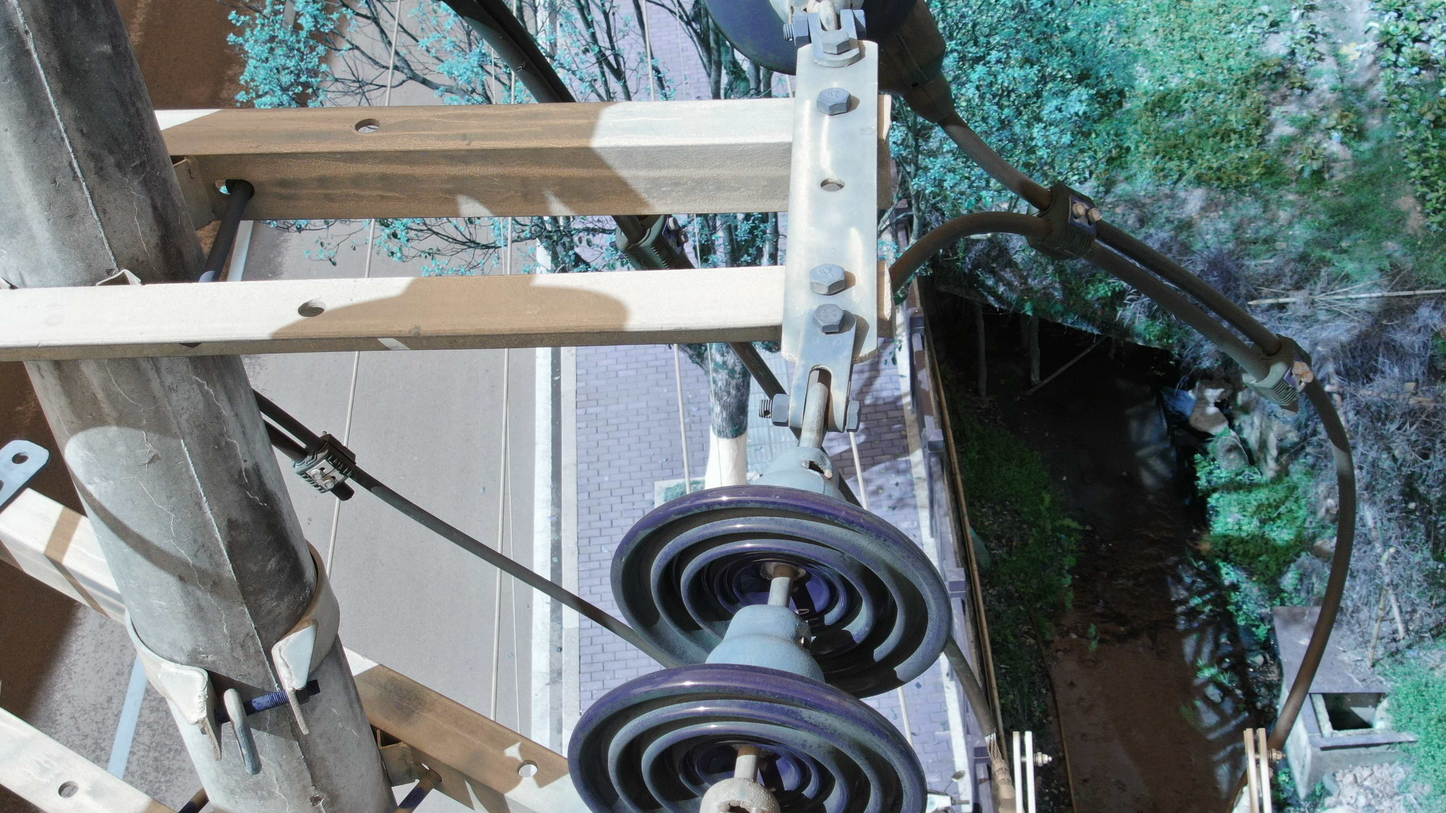severe_soiling_no_discharge_whole: (547, 443, 958, 812), (701, 3, 914, 83)
